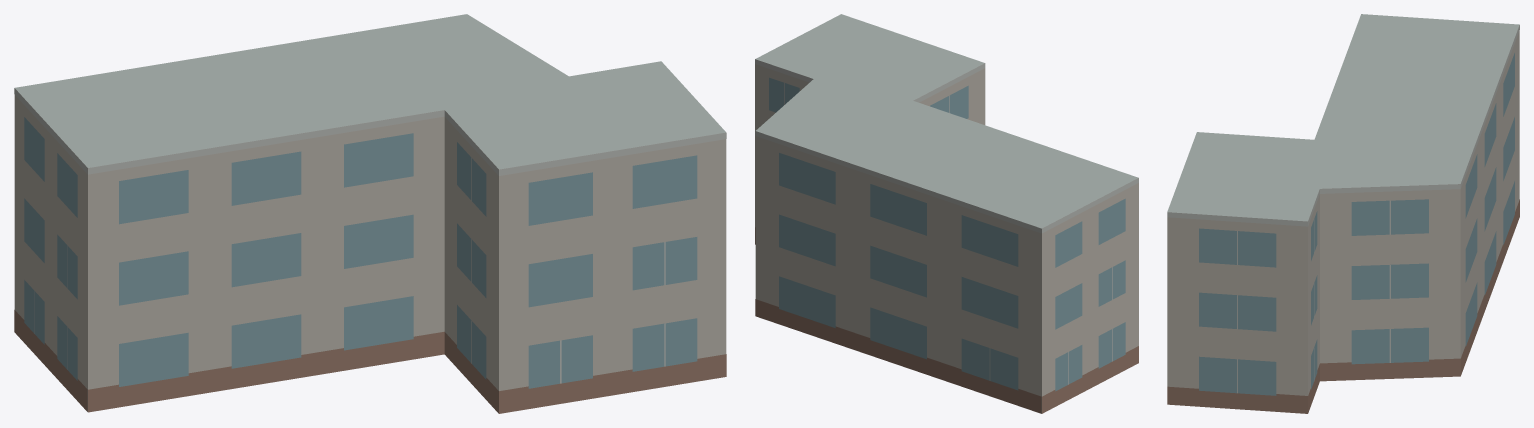
The model's file is residential-ce8ea8c3-e0b8-4881-9077-3cde2551b5b7.glb.
3 views of the same model, side by side, from view 1: azimuth 30°, elevation 25°; view 2: azimuth 150°, elevation 25°; view 3: azimuth 270°, elevation 25° (orthographic). The views are drawn at different scales.
Visible parts, largest first — view 1: residential-ce8ea8c3-e0b8-4881-9077-3cde2551b5b7.tmp; view 2: residential-ce8ea8c3-e0b8-4881-9077-3cde2551b5b7.tmp; view 3: residential-ce8ea8c3-e0b8-4881-9077-3cde2551b5b7.tmp.
Part boxes in pixels (box(x1,y1,x2,y2)): residential-ce8ea8c3-e0b8-4881-9077-3cde2551b5b7.tmp: box(14, 14, 726, 413); residential-ce8ea8c3-e0b8-4881-9077-3cde2551b5b7.tmp: box(755, 14, 1138, 413); residential-ce8ea8c3-e0b8-4881-9077-3cde2551b5b7.tmp: box(1167, 14, 1519, 413).
Bounding box in the file's own units: 21.17 × 9.15 × 15.21.
